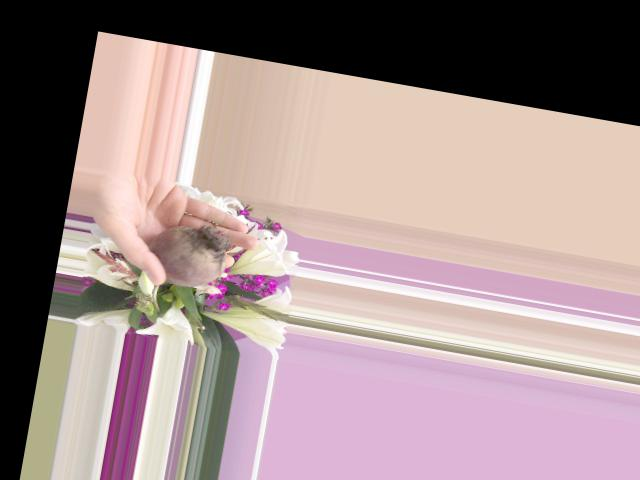beet: (140, 218, 233, 321)
